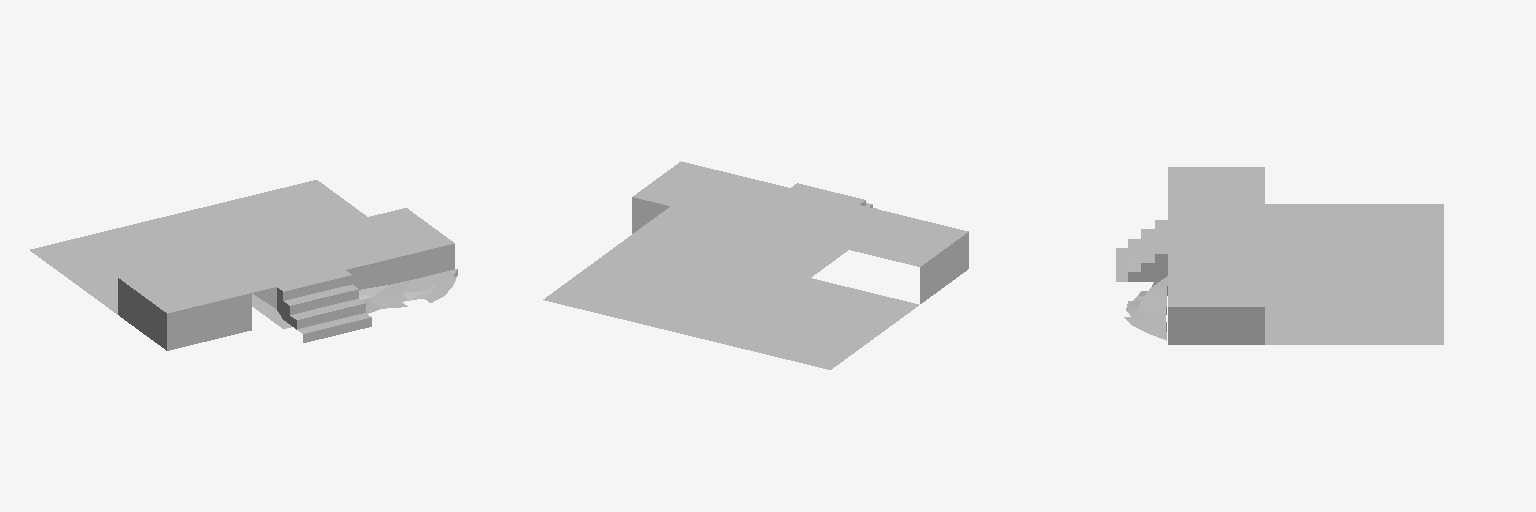
Rendered from housePorch_lowPoly.obj.
3 views of the same model, side by side, from view 1: azimuth 30°, elevation 25°; view 2: azimuth 150°, elevation 25°; view 3: azimuth 270°, elevation 25° (orthographic).
Visible parts, largest first — view 1: polySurface16 polySurface12 polySurface1 cabin_b:pCube1 house; view 2: polySurface16 polySurface12 polySurface1 cabin_b:pCube1 house; view 3: polySurface16 polySurface12 polySurface1 cabin_b:pCube1 house.
Part boxes in pixels (bbox=[...]): polySurface16 polySurface12 polySurface1 cabin_b:pCube1 house: bbox=[30, 180, 457, 350]; polySurface16 polySurface12 polySurface1 cabin_b:pCube1 house: bbox=[543, 161, 968, 369]; polySurface16 polySurface12 polySurface1 cabin_b:pCube1 house: bbox=[1116, 167, 1443, 344].
Bounding box in the file's own units: 12.15 × 1.5 × 11.94.